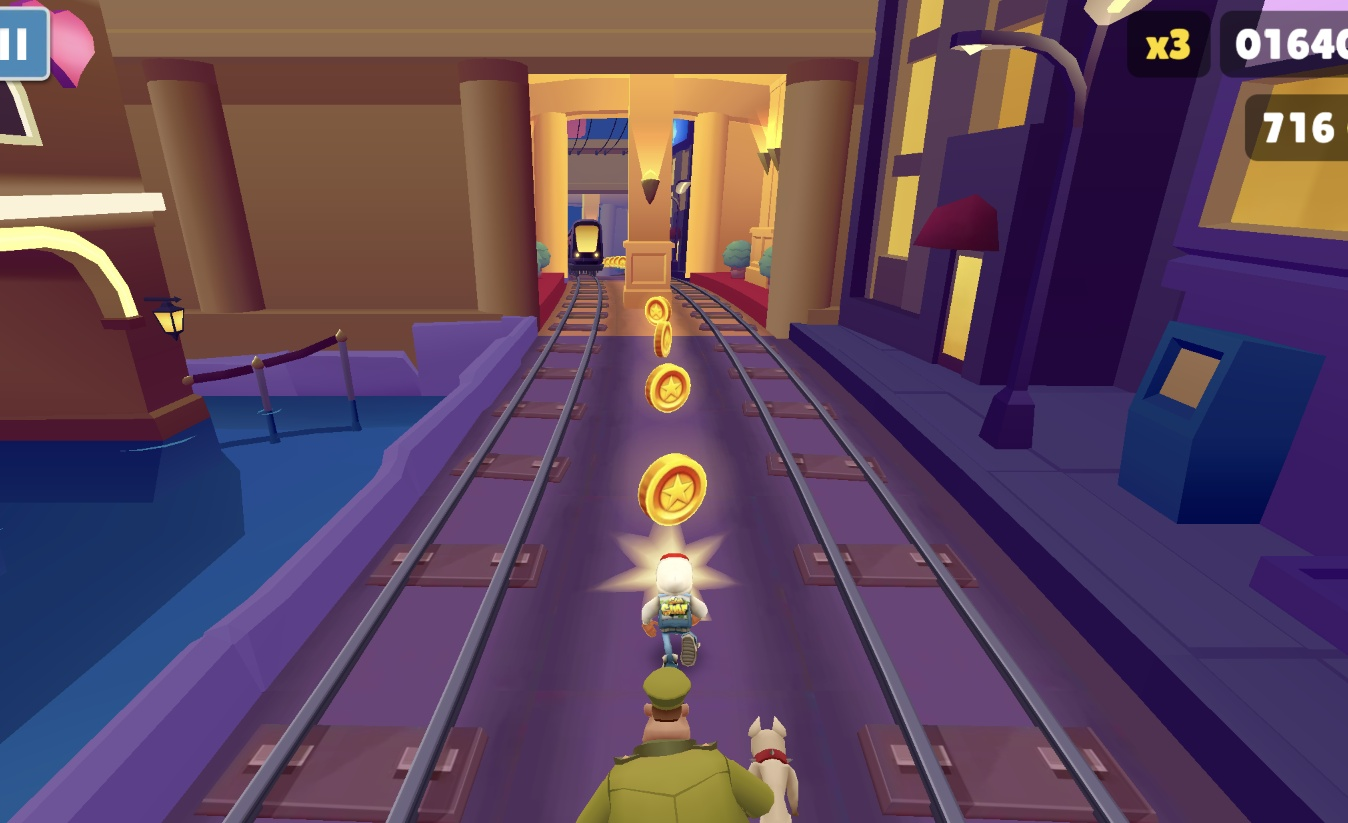pillar: (620, 73, 687, 337)
train: (563, 213, 610, 293)
